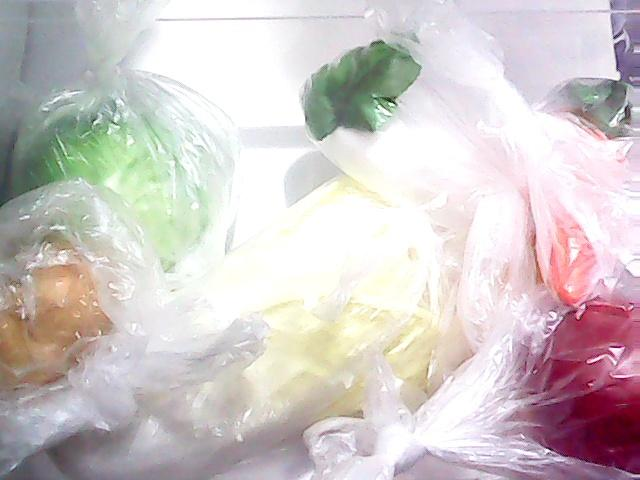apple: (519, 274, 640, 476)
cabbage: (7, 62, 249, 308)
carrot: (532, 75, 638, 306)
napa cabbage: (51, 119, 446, 477)
potato: (0, 241, 122, 396)
radish: (298, 34, 518, 224)
